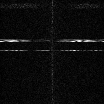wifi: (1, 39, 104, 41), (1, 48, 104, 50)
